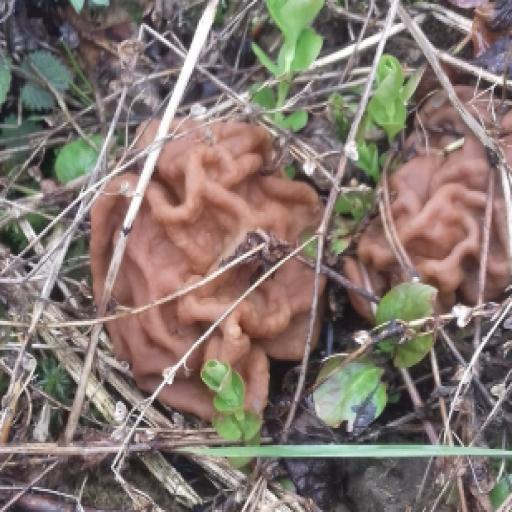mushroom: (23, 80, 341, 397), (1, 0, 1, 1)
